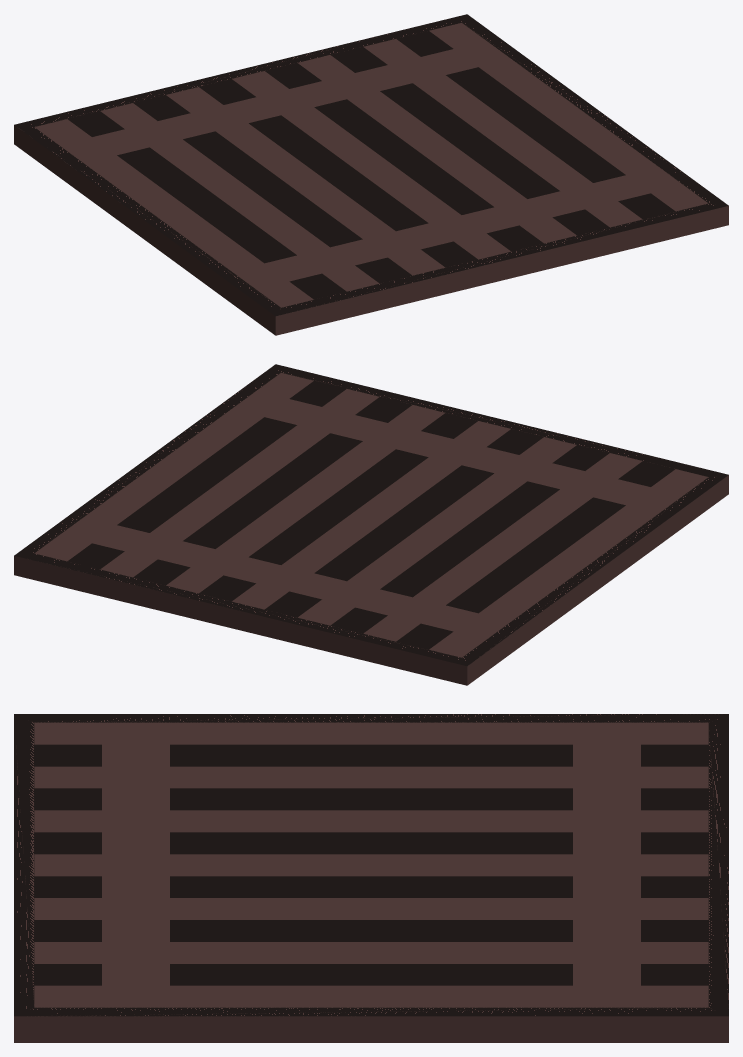
The model's file is drain 2.fbx.
The picture shows the model from 3 angles, top to bottom: view 1: azimuth 30°, elevation 25°; view 2: azimuth 150°, elevation 25°; view 3: azimuth 270°, elevation 25°; orthographic projection. The views are drawn at different scales.
Parts seen in each view (by area): view 1: drain 2; view 2: drain 2; view 3: drain 2.
Boxes of the visible parts, box(x1,y1,x2,y2) form: drain 2: box(14, 14, 728, 335); drain 2: box(14, 364, 728, 685); drain 2: box(14, 714, 728, 1042).
Size of the model in its own units: 48.22 by 1.98 by 48.22.
Materials: 1 (1 with a texture image).
